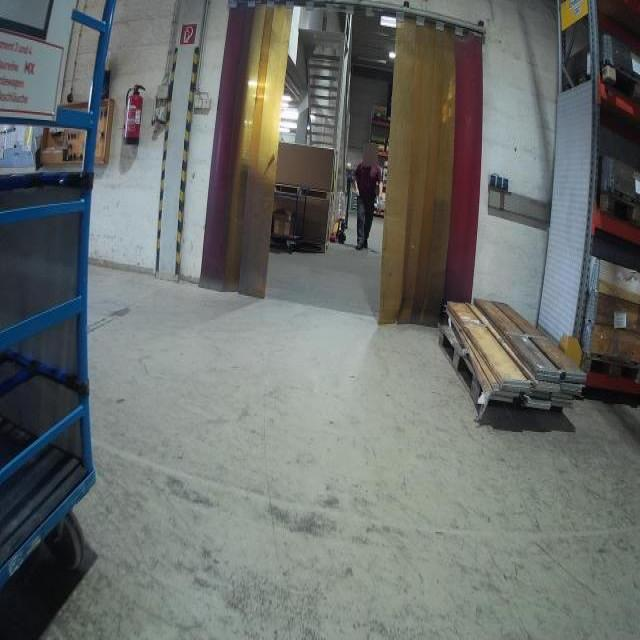pallet: (438, 323, 482, 409), (579, 350, 640, 384), (597, 59, 640, 101), (596, 189, 640, 225), (273, 181, 335, 203), (271, 237, 330, 253)
pallet_truck: (326, 171, 360, 247)
